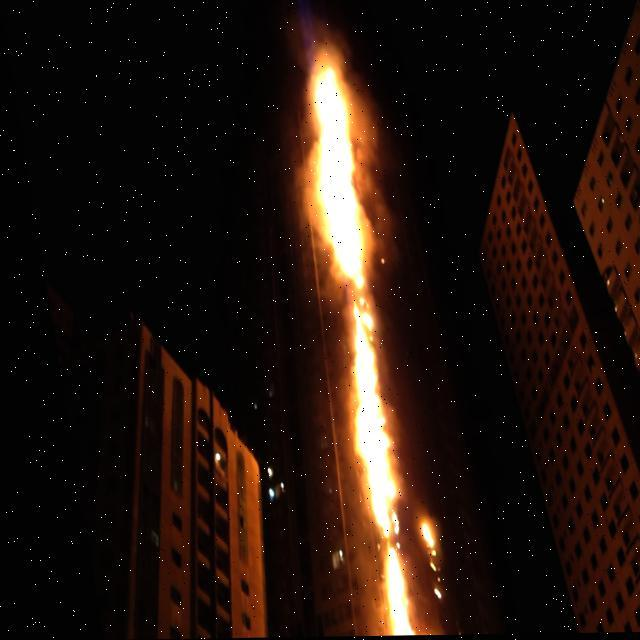Fire: (288, 22, 432, 636)
